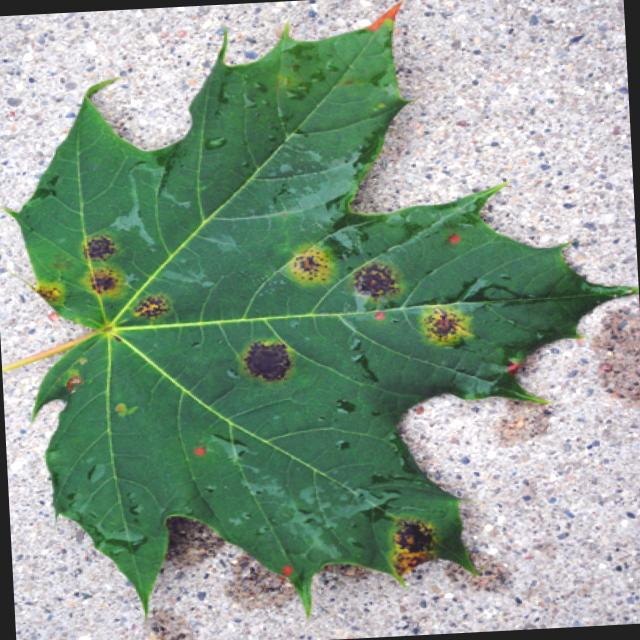leaf_spot: (9, 4, 637, 613)
